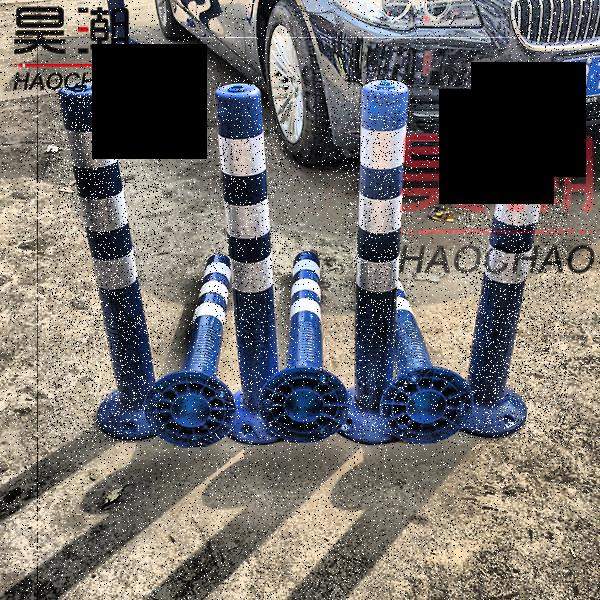bench: (49, 77, 165, 443), (459, 66, 568, 439), (208, 76, 293, 444), (344, 75, 414, 441)
